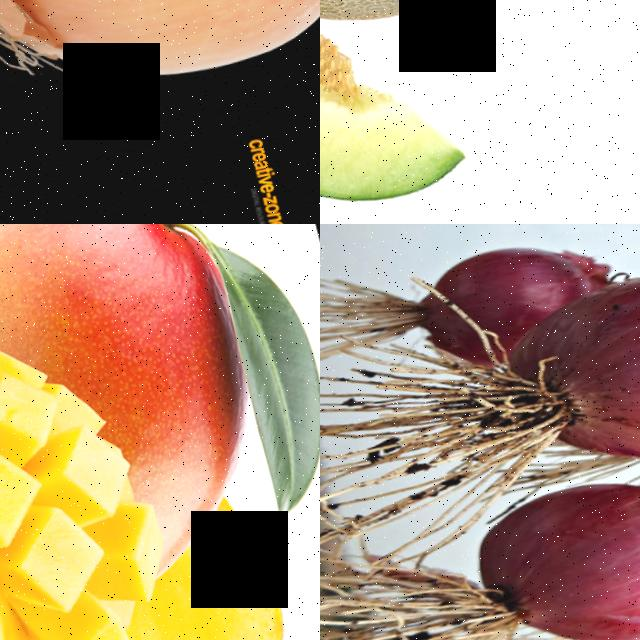mango: (57, 224, 276, 526), (0, 224, 237, 354)
melon: (320, 0, 474, 224)
onion: (0, 0, 320, 142), (464, 435, 640, 640), (504, 232, 640, 488), (405, 224, 611, 345)
